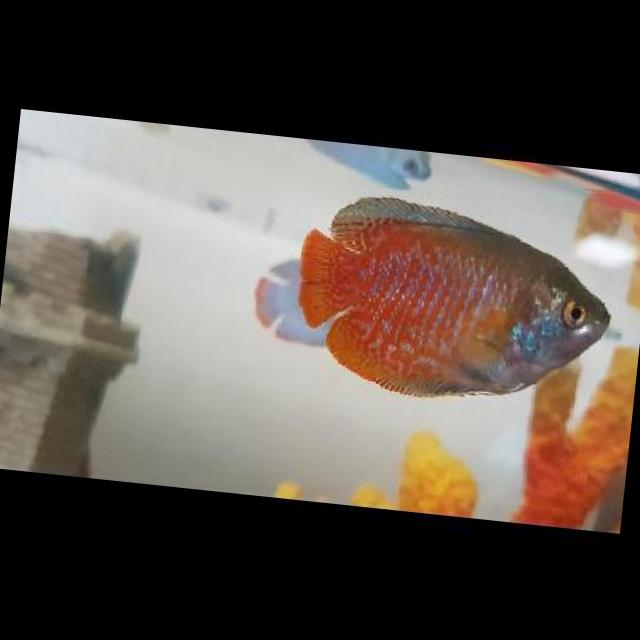Gourami: (287, 175, 627, 418)
